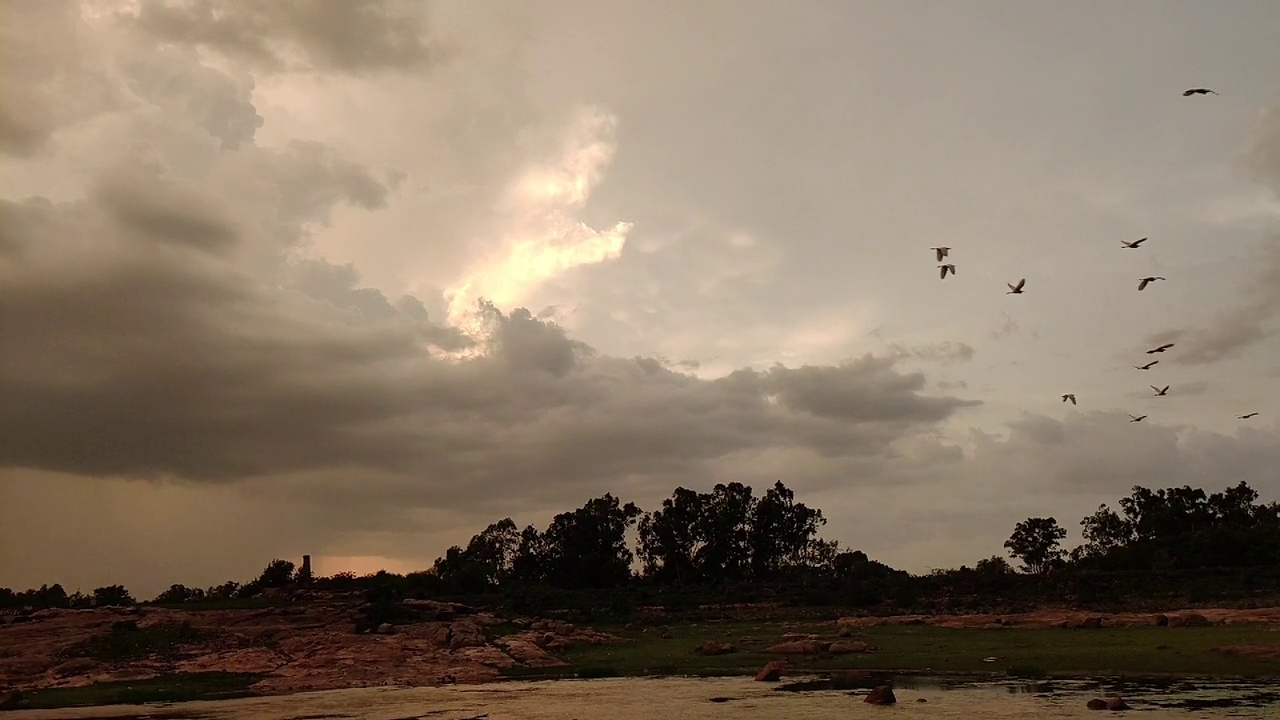bird: (1138, 275, 1166, 291), (1182, 87, 1218, 97), (1004, 278, 1025, 295), (1120, 236, 1147, 249), (927, 246, 950, 261), (936, 264, 956, 280), (1146, 344, 1174, 355), (1148, 383, 1168, 397), (1133, 360, 1158, 370), (1061, 391, 1079, 404), (1127, 411, 1146, 423), (1236, 411, 1257, 420)
